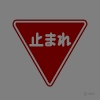Regulatory_sign_triangle: (14, 15, 87, 90)
